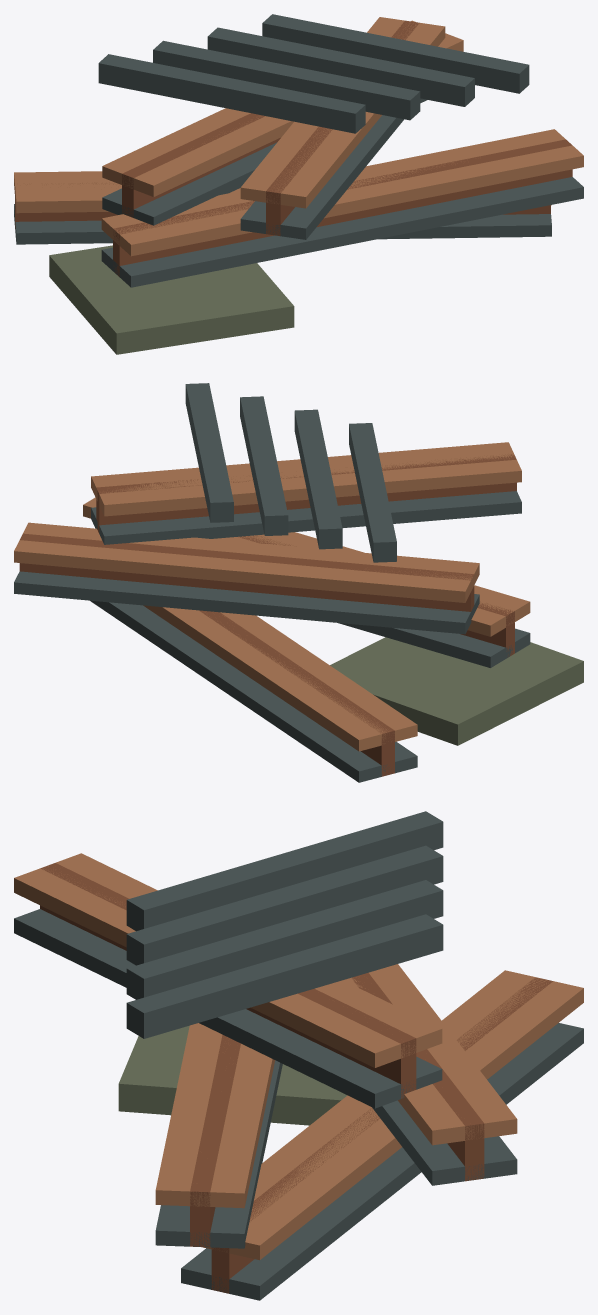
The model's file is FSA_ENV_Outdoor_Scrap_04_Girders.glb.
The picture shows the model from 3 angles, top to bottom: view 1: azimuth 30°, elevation 25°; view 2: azimuth 150°, elevation 25°; view 3: azimuth 270°, elevation 25°; orthographic projection. The views are drawn at different scales.
Parts seen in each view (by area): view 1: CrushedPanel, BeamCap1, BeamFoot1, Brace0, BeamCap2, BeamCap3, Brace1, Brace3, Brace2, BeamWeb1, BeamFoot0, BeamFoot3 (+5 smaller); view 2: BeamCap2, CrushedPanel, BeamCap3, BeamCap0, BeamFoot2, BeamFoot0, BeamFoot3, BeamWeb2, BeamWeb3, Brace3, Brace1, Brace2 (+5 smaller); view 3: BeamCap0, BeamCap3, Brace3, BeamCap1, BeamFoot0, BeamFoot3, Brace1, Brace2, Brace0, BeamCap2, CrushedPanel, BeamWeb3 (+5 smaller).
Boxes of the visible parts, x1,y1,x2,y2 form: CrushedPanel: [49, 245, 294, 354]; BeamCap1: [101, 129, 583, 256]; BeamFoot1: [101, 177, 583, 287]; Brace0: [98, 54, 365, 133]; BeamCap2: [102, 20, 463, 196]; BeamCap3: [240, 17, 445, 208]; Brace1: [153, 40, 420, 120]; Brace3: [262, 14, 529, 93]; Brace2: [207, 27, 474, 106]; BeamWeb1: [113, 139, 572, 276]; BeamFoot0: [14, 204, 551, 244]; BeamFoot3: [240, 98, 420, 239]; BeamCap2: [14, 522, 479, 602]; CrushedPanel: [330, 637, 583, 745]; BeamCap3: [91, 442, 521, 516]; BeamCap0: [143, 605, 417, 751]; BeamFoot2: [14, 571, 479, 634]; BeamFoot0: [90, 600, 417, 782]; BeamFoot3: [91, 491, 521, 544]; BeamWeb2: [19, 533, 474, 611]; BeamWeb3: [96, 454, 516, 533]; Brace3: [185, 383, 233, 522]; Brace1: [294, 409, 342, 549]; Brace2: [240, 396, 288, 535]; BeamCap0: [201, 970, 583, 1260]; BeamCap3: [14, 853, 442, 1067]; Brace3: [126, 914, 443, 1038]; BeamCap1: [155, 1023, 275, 1208]; BeamFoot0: [181, 1023, 583, 1300]; BeamFoot3: [14, 909, 442, 1108]; Brace1: [126, 845, 443, 965]; Brace2: [126, 880, 443, 999]; Brace0: [126, 811, 443, 931]; BeamCap2: [343, 964, 517, 1145]; CrushedPanel: [118, 1025, 347, 1125]; BeamWeb3: [40, 863, 416, 1098].
Bounding box in the file's own units: 3.45 × 1.37 × 2.81.
